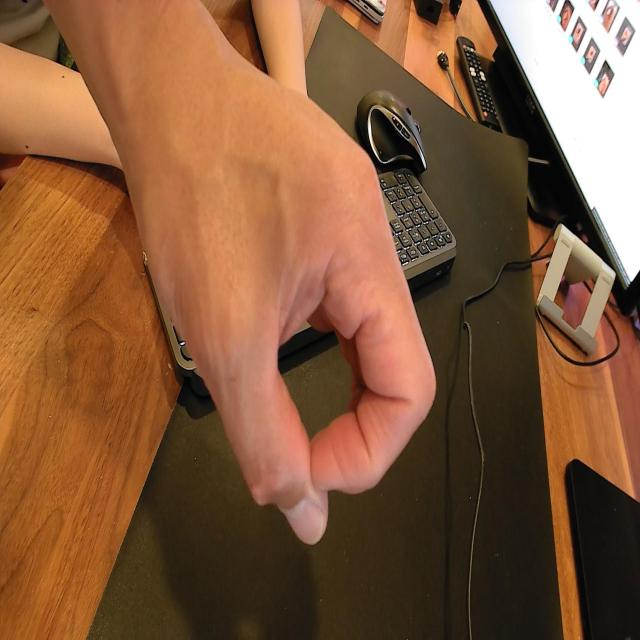O: (137, 67, 441, 553)
